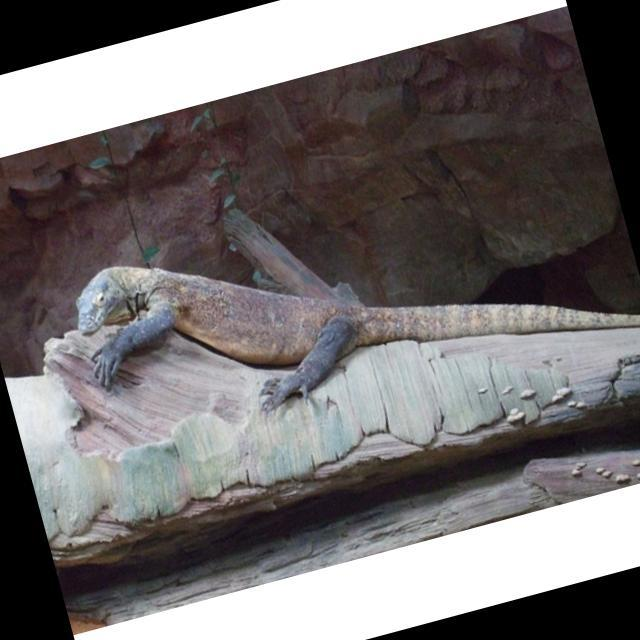KomodoDragon: (65, 134, 640, 469)
